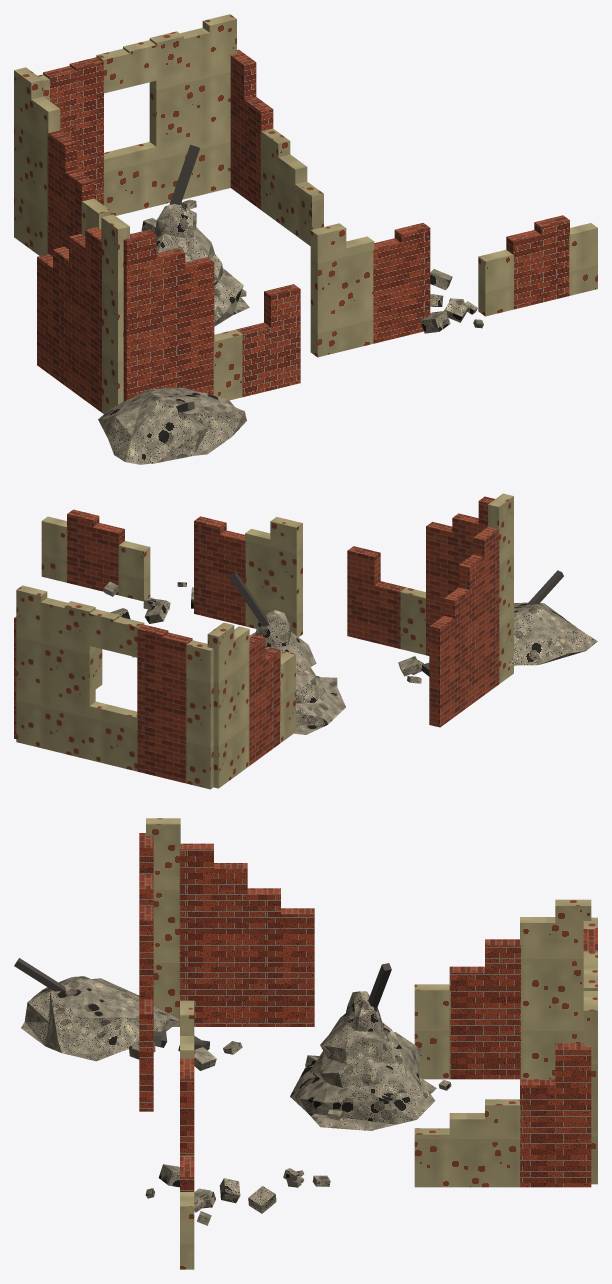
The model's file is ruinset_defense_corner.glb.
3 renders of one model, top to bottom at view 1: azimuth 30°, elevation 25°; view 2: azimuth 150°, elevation 25°; view 3: azimuth 270°, elevation 25°, orthographic. The views are drawn at different scales.
Visible parts, largest first — view 1: ruinset_defense_corner-col; view 2: ruinset_defense_corner-col; view 3: ruinset_defense_corner-col.
Part boxes in pixels (x1,y1,x2,y2): ruinset_defense_corner-col: (14, 14, 597, 464); ruinset_defense_corner-col: (14, 493, 597, 789); ruinset_defense_corner-col: (14, 818, 597, 1269).
Size of the model in its own units: 8.09 by 2.83 by 7.32.
4 materials, 3 textured.
